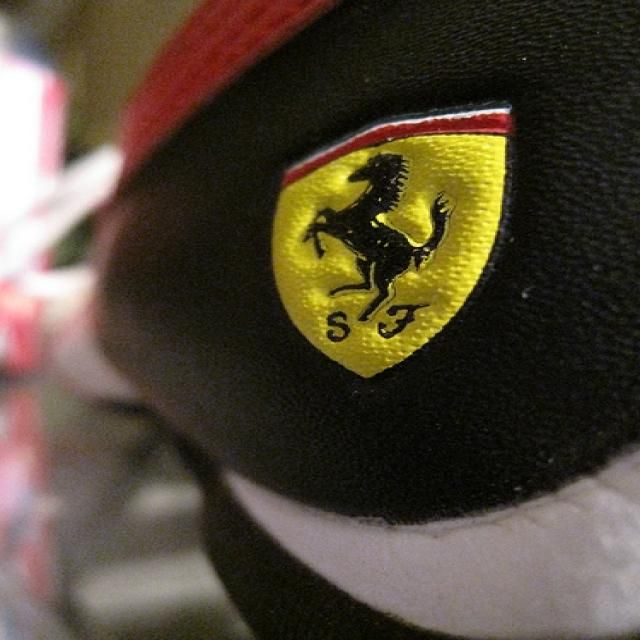ferrari: (262, 105, 511, 380)
